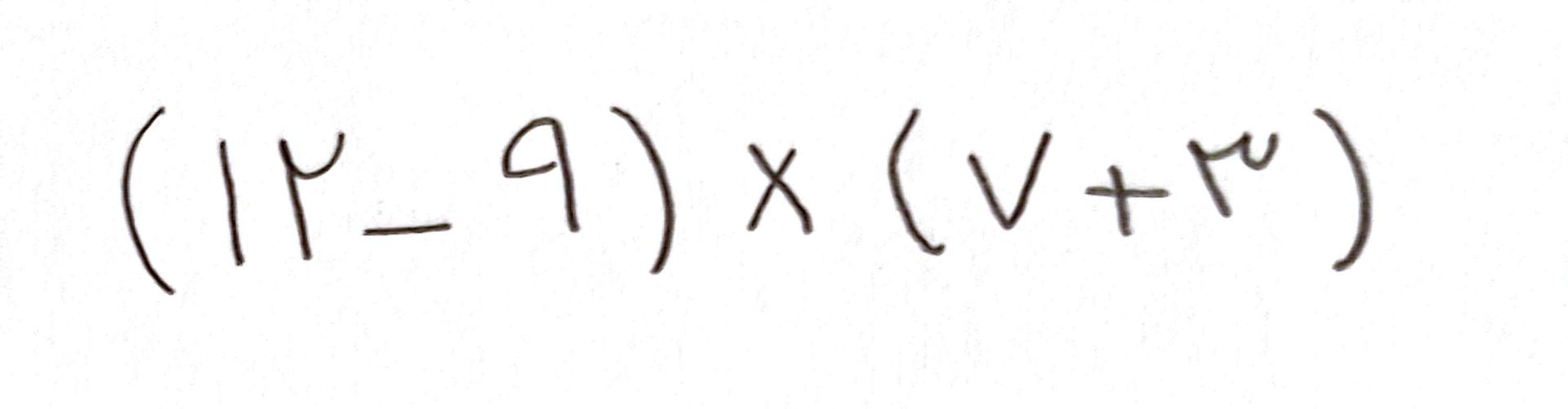character: (611, 100, 677, 275), (1314, 104, 1376, 275), (502, 113, 581, 234), (276, 132, 347, 262), (1186, 129, 1281, 221), (968, 129, 1051, 232), (124, 103, 163, 293), (1085, 166, 1172, 246), (750, 141, 814, 235), (891, 107, 924, 251), (215, 137, 249, 271), (365, 222, 451, 234)
